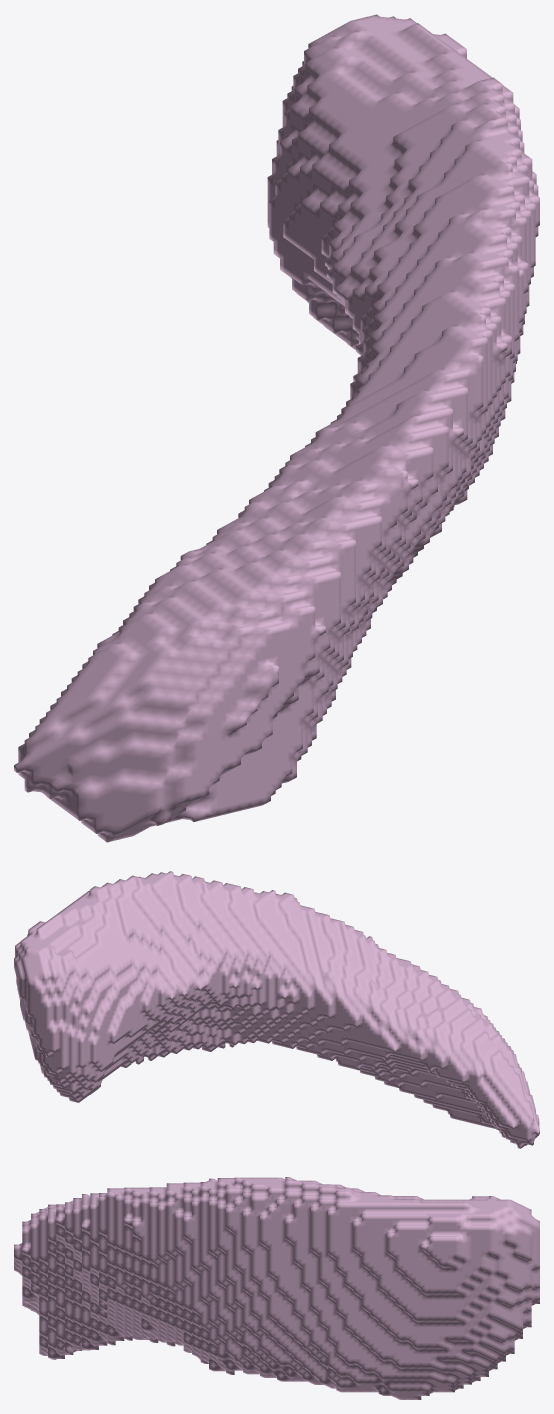
File: region-16.glb
3 renders of one model, top to bottom at view 1: azimuth 30°, elevation 25°; view 2: azimuth 150°, elevation 25°; view 3: azimuth 270°, elevation 25°, orthographic. The views are drawn at different scales.
Parts seen in each view (by area): view 1: digimouse-volume:16; view 2: digimouse-volume:16; view 3: digimouse-volume:16.
Part boxes in pixels (x1,y1,x2,y2): digimouse-volume:16: (14,14,539,842); digimouse-volume:16: (14,871,539,1148); digimouse-volume:16: (14,1177,539,1399).
Bounding box in the file's own units: 0.013 × 0.0084 × 0.0124.
